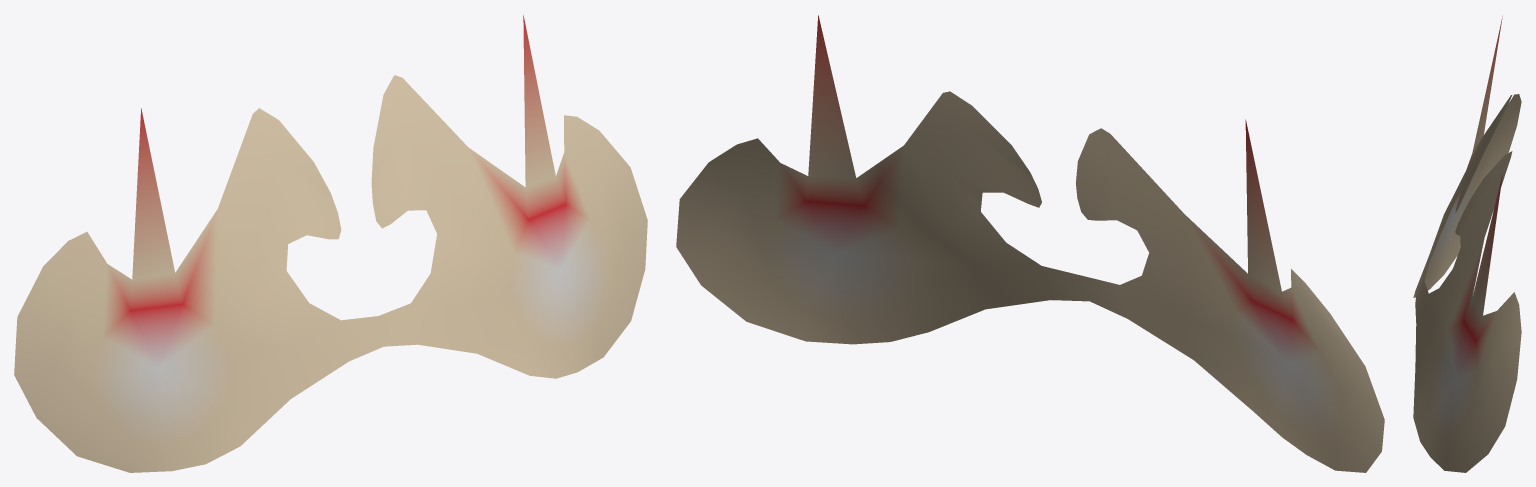
Rendered from S12_Beast04_L2_Eye.glb.
3 views of the same model, side by side, from view 1: azimuth 30°, elevation 25°; view 2: azimuth 150°, elevation 25°; view 3: azimuth 270°, elevation 25° (orthographic). The views are drawn at different scales.
Visible parts, largest first — view 1: S12_Beast04_L2_Eye__Eye_M__surface0__lod0; view 2: S12_Beast04_L2_Eye__Eye_M__surface0__lod0; view 3: S12_Beast04_L2_Eye__Eye_M__surface0__lod0.
Boxes of the visible parts, box(x1,y1,x2,y2) form: S12_Beast04_L2_Eye__Eye_M__surface0__lod0: box(14, 15, 647, 472); S12_Beast04_L2_Eye__Eye_M__surface0__lod0: box(676, 15, 1384, 472); S12_Beast04_L2_Eye__Eye_M__surface0__lod0: box(1413, 16, 1521, 472).
Size of the model in its own units: 0.5762 by 0.2865 by 0.1005.
